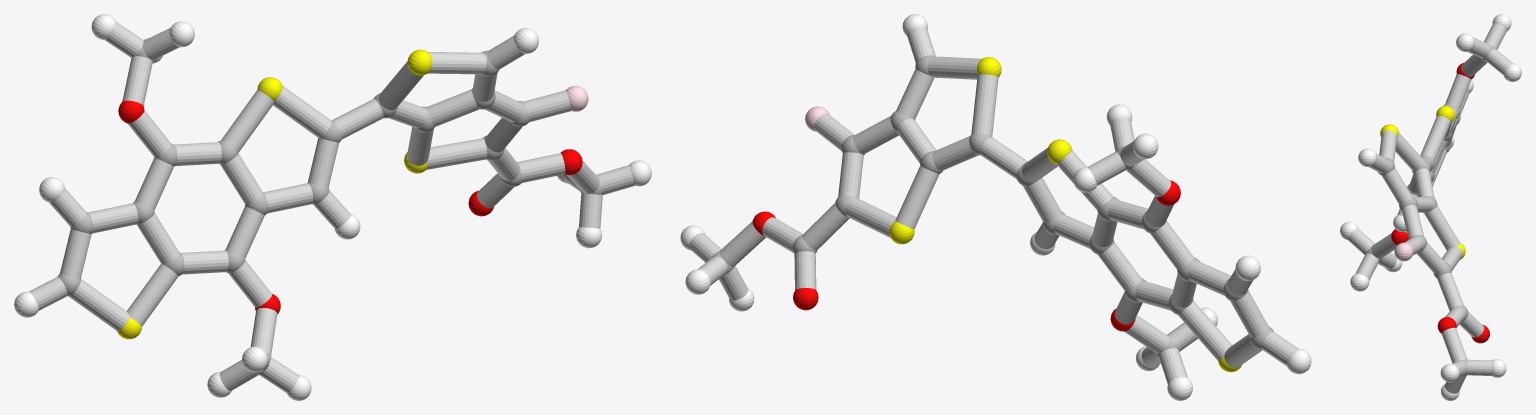
Rendered from Dimethoxy_Benzodithiophene_Phi_15_Theta_230_Methylcarbonyl_3_Fluoro_Thienothiophene.glb.
3 views of the same model, side by side, from view 1: azimuth 30°, elevation 25°; view 2: azimuth 150°, elevation 25°; view 3: azimuth 270°, elevation 25° (orthographic). The views are drawn at different scales.
Parts seen in each view (by area): view 1: grp15205, grp8689, grp1, grp7241, grp13395; view 2: grp15205, grp8689, grp1, grp7241, grp13395; view 3: grp15205, grp8689, grp1, grp13395, grp7241, grp14843.
Part boxes in pixels (x1=…): grp15205: x1=29, y1=22, x2=634, y2=393; grp8689: x1=14, y1=14, x2=651, y2=400; grp1: x1=57, y1=40, x2=602, y2=374; grp7241: x1=117, y1=49, x2=431, y2=339; grp13395: x1=118, y1=100, x2=582, y2=314; grp15205: x1=689, y1=27, x2=1298, y2=384; grp8689: x1=680, y1=14, x2=1311, y2=400; grp1: x1=711, y1=55, x2=1273, y2=357; grp7241: x1=889, y1=57, x2=1242, y2=372; grp13395: x1=752, y1=180, x2=1180, y2=331; grp15205: x1=1347, y1=23, x2=1512, y2=393; grp8689: x1=1340, y1=14, x2=1521, y2=400; grp1: x1=1366, y1=44, x2=1495, y2=376; grp13395: x1=1391, y1=63, x2=1489, y2=343; grp7241: x1=1380, y1=105, x2=1465, y2=259; grp14843: x1=1394, y1=242, x2=1413, y2=261.
Size of the model in its own units: 16.88 by 8.49 by 5.77.
